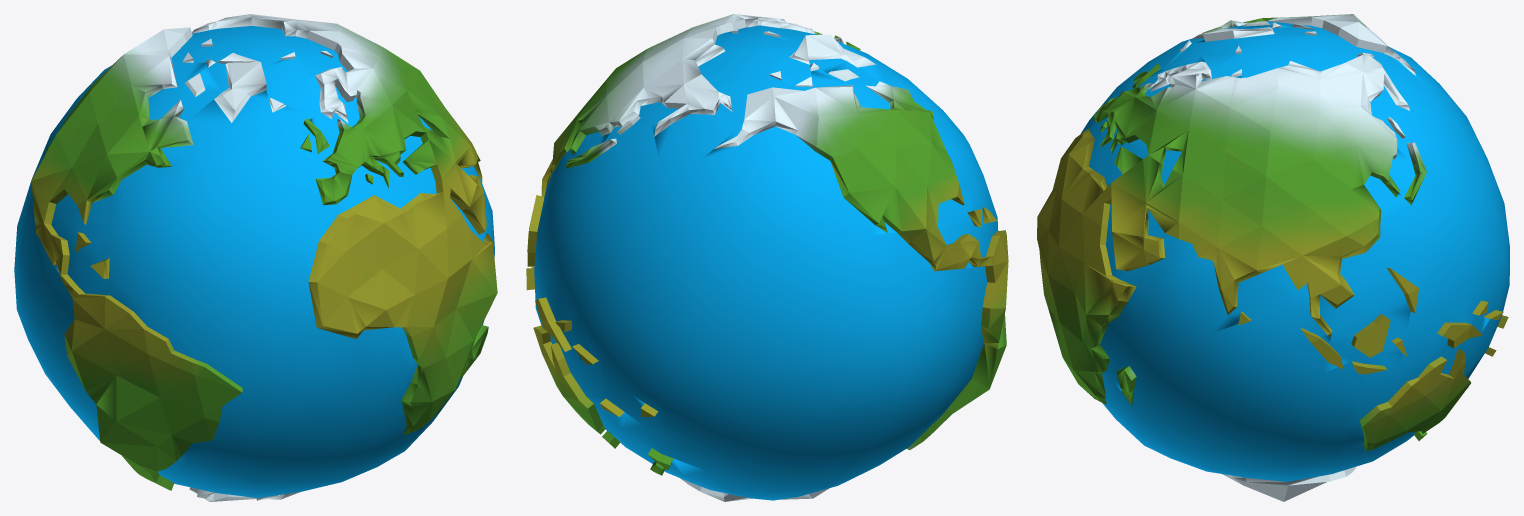
Rendered from earth.glb.
3 renders of one model, left to right at view 1: azimuth 30°, elevation 25°; view 2: azimuth 150°, elevation 25°; view 3: azimuth 270°, elevation 25°, orthographic. The views are drawn at different scales.
Parts seen in each view (by area): view 1: earth4; view 2: earth4; view 3: earth4.
Part boxes in pixels (box(x1,y1,x2,y2)): earth4: box(14, 14, 497, 501); earth4: box(526, 14, 1008, 501); earth4: box(1037, 14, 1509, 501).
Size of the model in its own units: 17.33 by 17.94 by 17.29.
3 materials, 2 textured.
